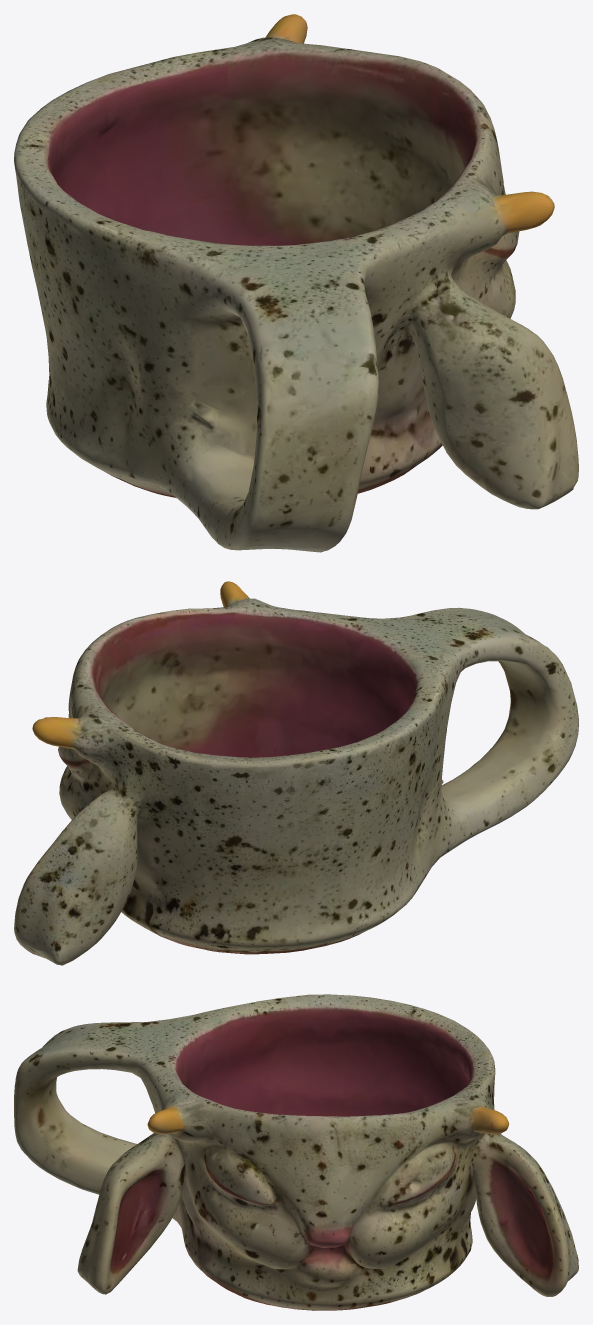
The model's file is rabbit_mug.glb.
3 renders of one model, top to bottom at view 1: azimuth 30°, elevation 25°; view 2: azimuth 150°, elevation 25°; view 3: azimuth 270°, elevation 25°, orthographic. The views are drawn at different scales.
Visible parts, largest first — view 1: tripo_node_24fa9c8c-410e-458f-abe6-0cb7150e03cc; view 2: tripo_node_24fa9c8c-410e-458f-abe6-0cb7150e03cc; view 3: tripo_node_24fa9c8c-410e-458f-abe6-0cb7150e03cc.
Boxes of the visible parts, x1,y1,x2,y2 form: tripo_node_24fa9c8c-410e-458f-abe6-0cb7150e03cc: [14, 14, 578, 552]; tripo_node_24fa9c8c-410e-458f-abe6-0cb7150e03cc: [14, 581, 578, 965]; tripo_node_24fa9c8c-410e-458f-abe6-0cb7150e03cc: [14, 994, 578, 1310].
Size of the model in its own units: 0.6495 by 0.4111 by 0.9995.
1 material, 1 textured.
